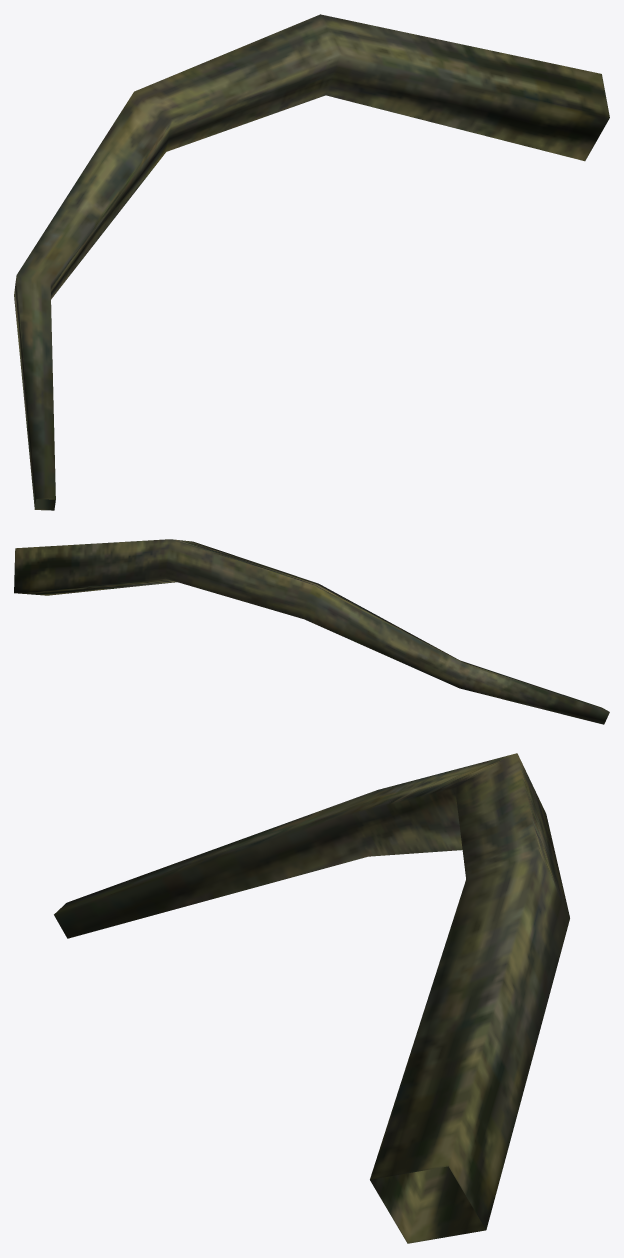
File: OVERHILL_A_01_LINE339.fbx
3 views of the same model, one above another, from view 1: azimuth 30°, elevation 25°; view 2: azimuth 150°, elevation 25°; view 3: azimuth 270°, elevation 25° (orthographic). The views are drawn at different scales.
Visible parts, largest first — view 1: OVERHILL_A_01_LINE339; view 2: OVERHILL_A_01_LINE339; view 3: OVERHILL_A_01_LINE339.
Part boxes in pixels (box(x1,y1,x2,y2)): OVERHILL_A_01_LINE339: box(14, 14, 609, 510); OVERHILL_A_01_LINE339: box(14, 539, 609, 724); OVERHILL_A_01_LINE339: box(54, 753, 569, 1243).
Bounding box in the file's own units: 12590 × 4642 × 5639.
Materials: 1 (1 with a texture image).
